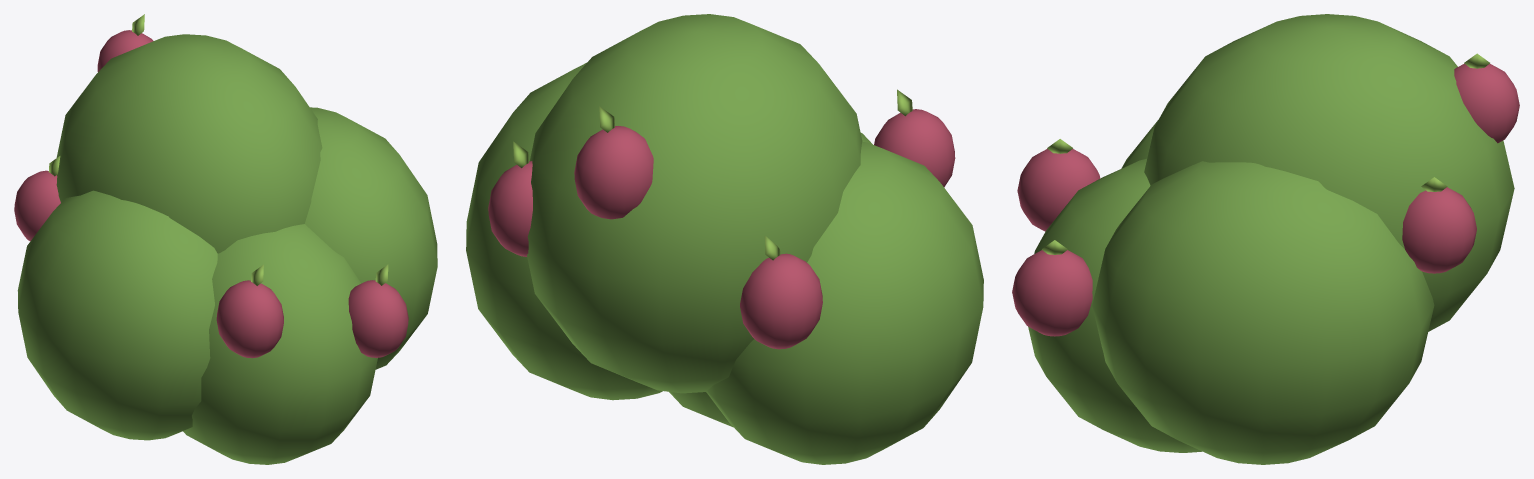
Rendered from berry_ready.fbx.
The picture shows the model from 3 angles, left to right: view 1: azimuth 30°, elevation 25°; view 2: azimuth 150°, elevation 25°; view 3: azimuth 270°, elevation 25°; orthographic projection. The views are drawn at different scales.
Parts seen in each view (by area): view 1: berry_ready; view 2: berry_ready; view 3: berry_ready.
Boxes of the visible parts, box(x1,y1,x2,y2) form: berry_ready: box(14, 14, 437, 464); berry_ready: box(466, 14, 983, 464); berry_ready: box(1012, 14, 1519, 464).
Size of the model in its own units: 1 by 0.9 by 1.
Materials: 1 (1 with a texture image).
